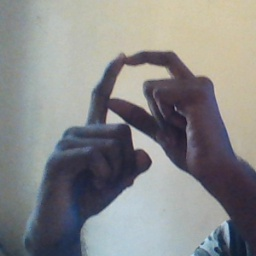D: (75, 42, 201, 178)
